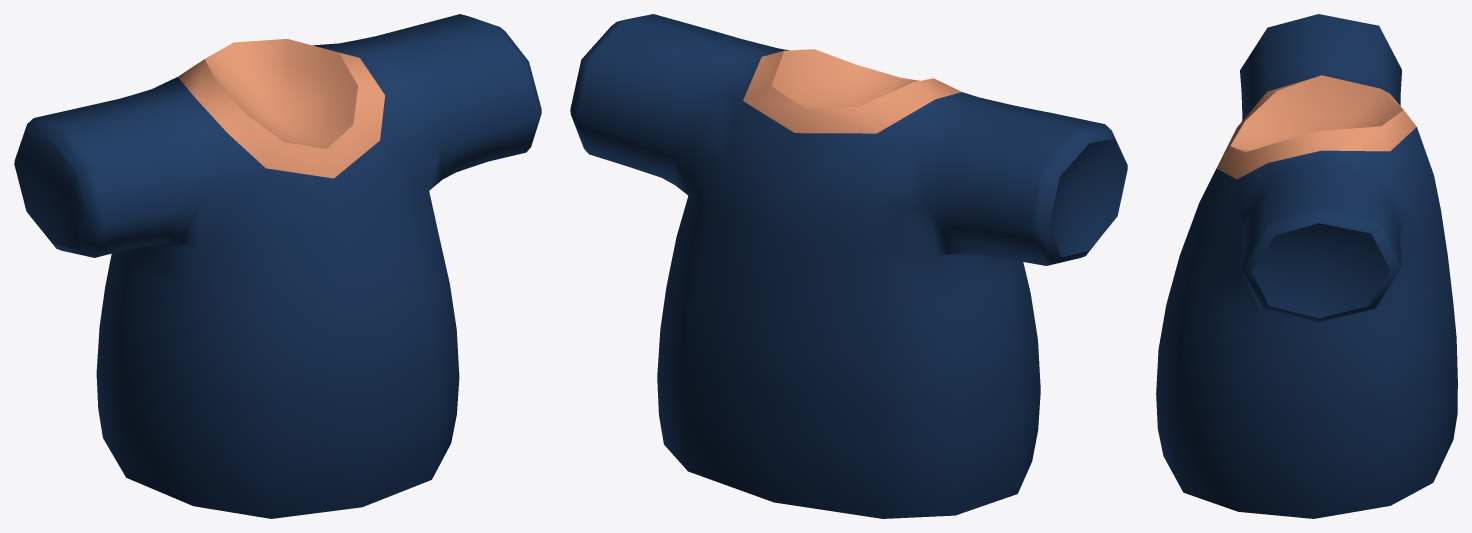
The model's file is Top_07.fbx.
The picture shows the model from 3 angles, left to right: view 1: azimuth 30°, elevation 25°; view 2: azimuth 150°, elevation 25°; view 3: azimuth 270°, elevation 25°; orthographic projection. The views are drawn at different scales.
Parts seen in each view (by area): view 1: Top_07; view 2: Top_07; view 3: Top_07.
Part boxes in pixels (<box>): Top_07: <box>14,14,541,518</box>; Top_07: <box>570,14,1127,518</box>; Top_07: <box>1156,14,1457,518</box>.
Bounding box in the file's own units: 57.92 × 46.22 × 35.79.
